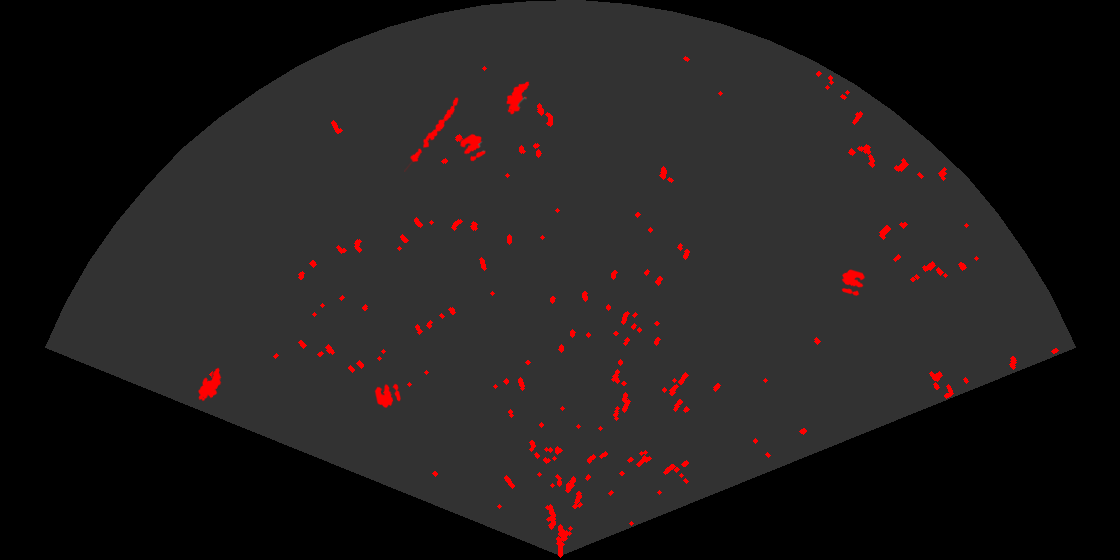AUV: (196, 366, 223, 403), (505, 80, 531, 116)
ball: (458, 132, 487, 163), (373, 382, 402, 409), (840, 268, 867, 297)
chain: (404, 96, 460, 172)
